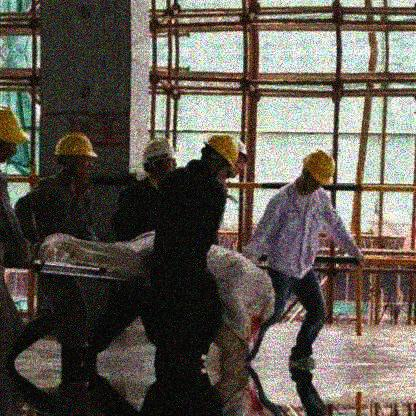helmet: (55, 133, 98, 183), (198, 133, 237, 184), (299, 151, 336, 202), (1, 107, 28, 166), (142, 139, 177, 180)
